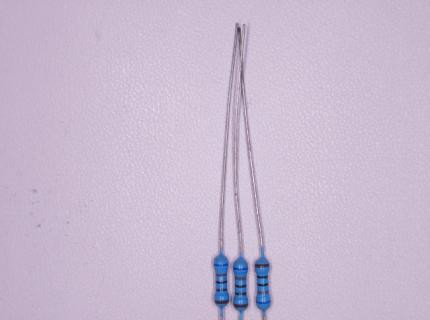Black band: (235, 284, 246, 289), (216, 280, 228, 284), (257, 275, 268, 279), (257, 283, 268, 287), (217, 288, 227, 292), (236, 292, 247, 295)
Blue band: (233, 266, 248, 271), (214, 263, 229, 267), (256, 300, 271, 304)
Brown band: (255, 263, 270, 268), (234, 303, 248, 308), (214, 300, 229, 304)
Grey band: (235, 276, 246, 281), (257, 290, 270, 294), (216, 273, 227, 277)
